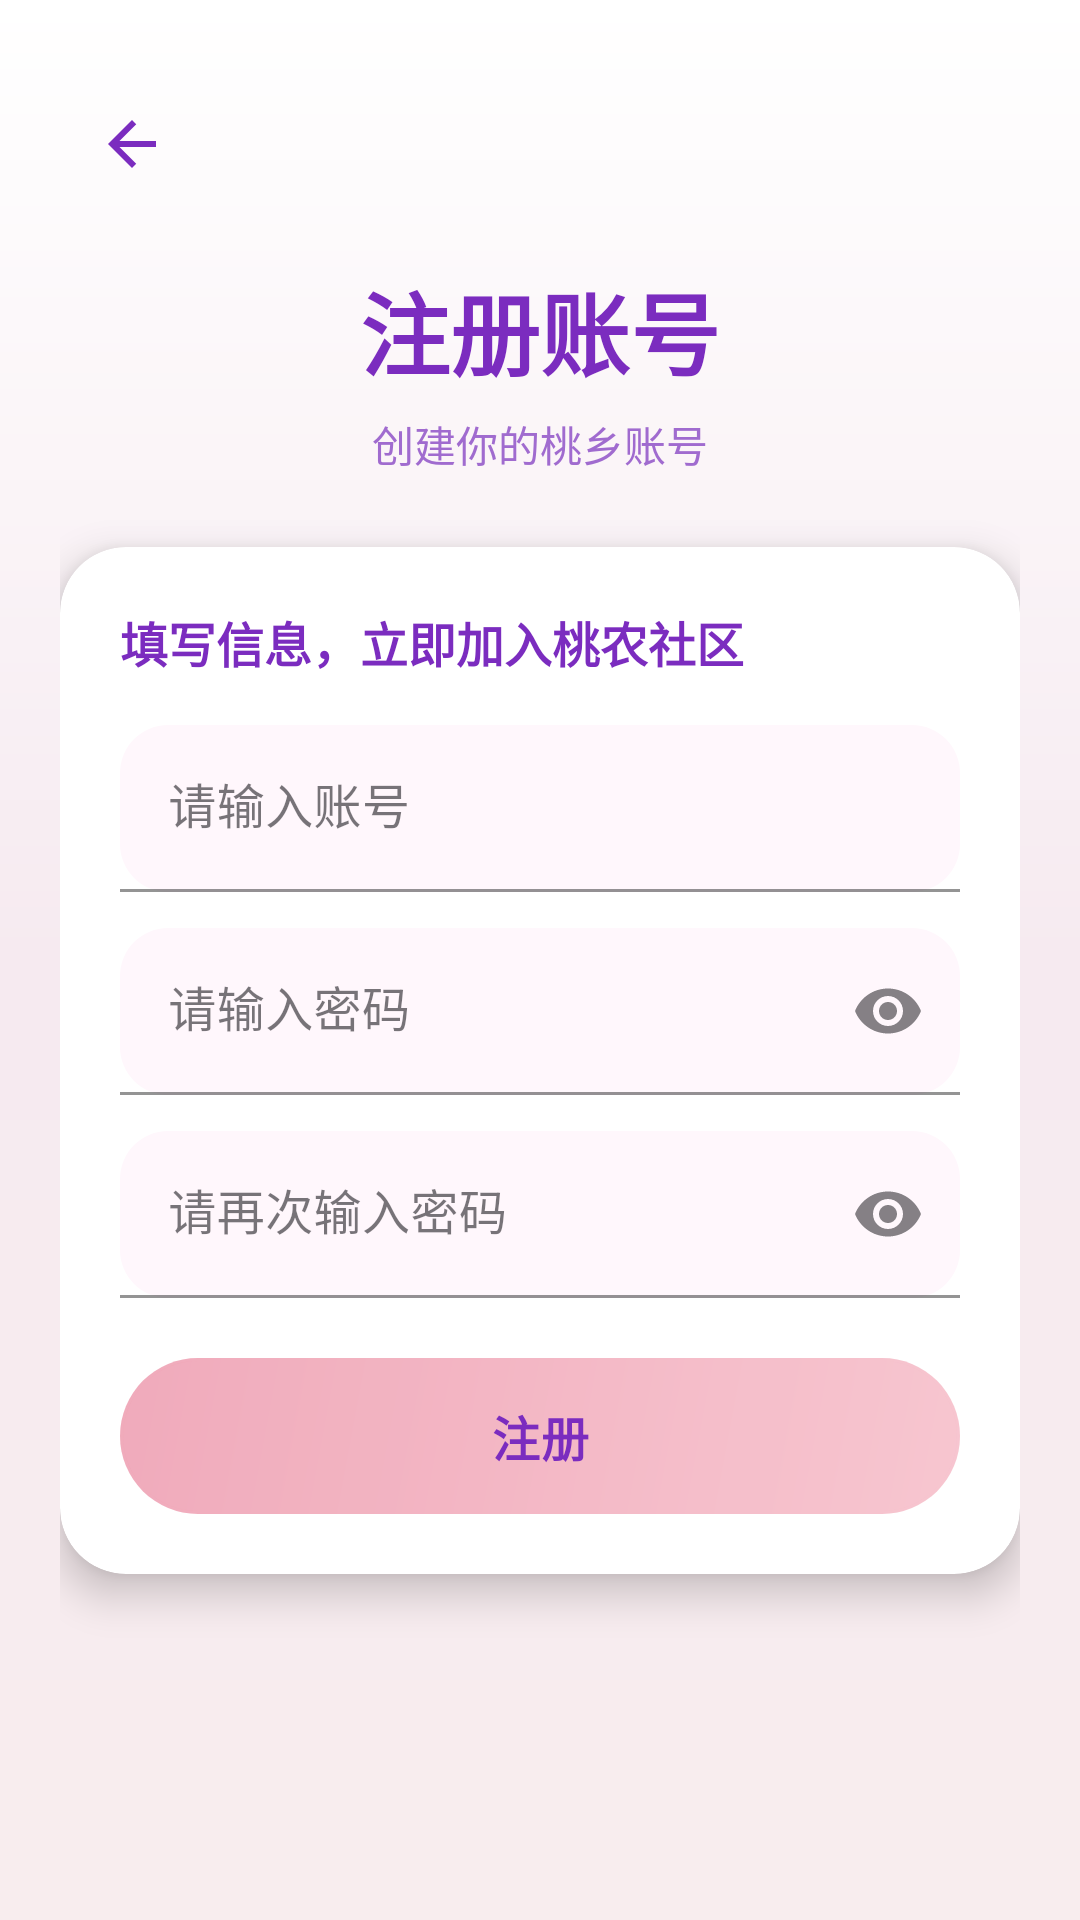

Point at icon controls on the screen. Image size 1080×1920, points as (x,y).
back: (132,144)
